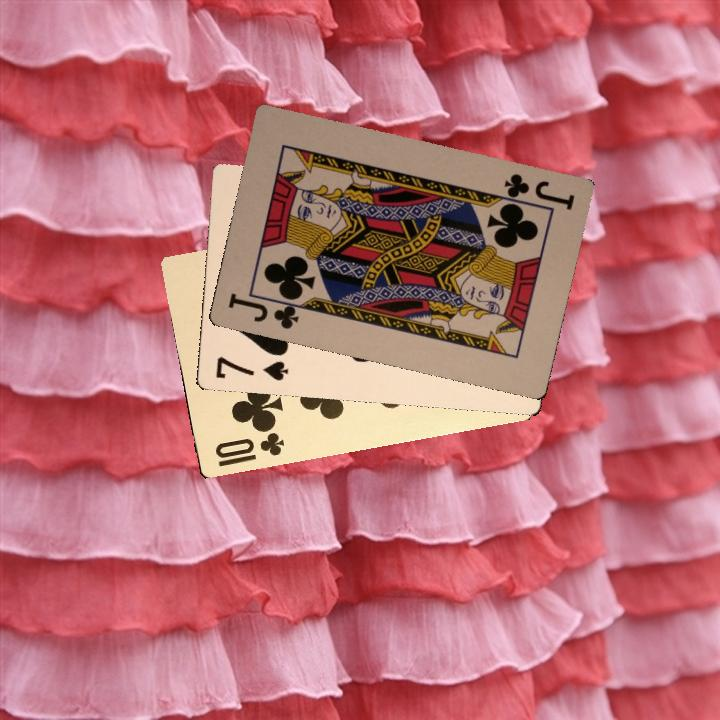10c: (211, 421, 287, 469)
7s: (211, 352, 290, 383)
Jc: (494, 169, 577, 215), (224, 288, 307, 332)
